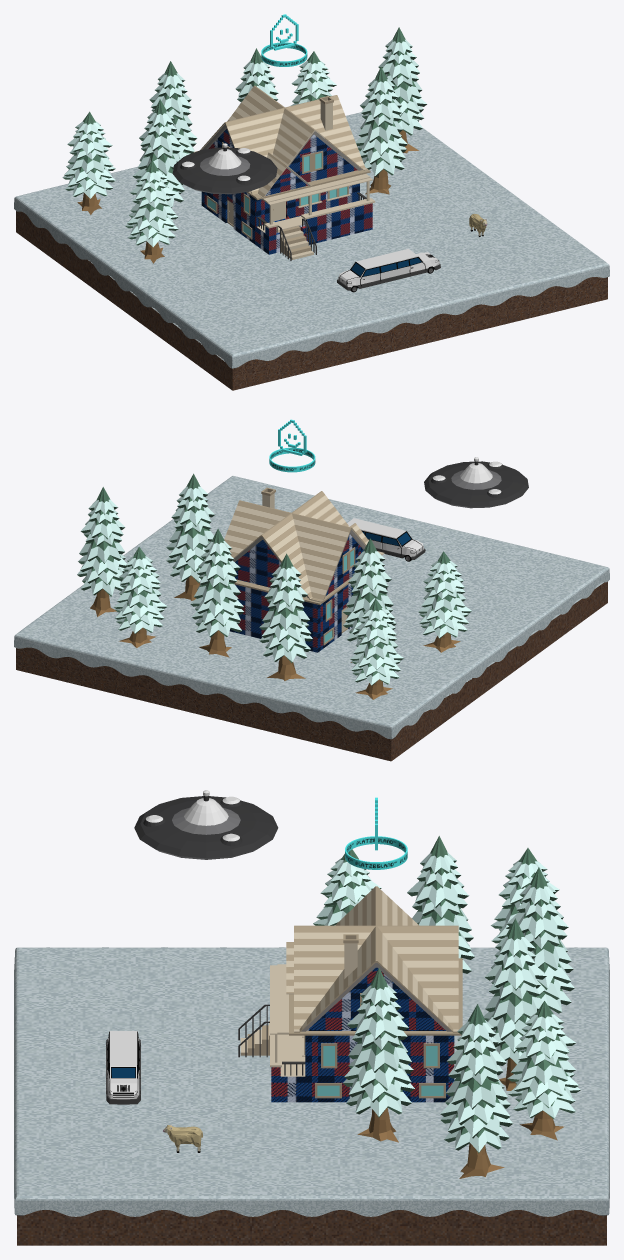
3 renders of one model, top to bottom at view 1: azimuth 30°, elevation 25°; view 2: azimuth 150°, elevation 25°; view 3: azimuth 270°, elevation 25°, orthographic. The views are drawn at different scales.
Visible parts, largest first — view 1: Cube.003, Cube.171, OBJRANDOM_UFO, VEHICLES_LIMOUSINE, TYPE_PREMIUM; view 2: Cube.003, Cube.171, OBJRANDOM_UFO, VEHICLES_LIMOUSINE, TYPE_PREMIUM; view 3: Cube.003, Cube.171, OBJRANDOM_UFO, VEHICLES_LIMOUSINE, TYPE_PREMIUM, ANIMAL_OVEJA.
Part boxes in pixels (x1,y1,x2,y2): Cube.003: (14, 27, 609, 390); Cube.171: (193, 85, 375, 260); OBJRANDOM_UFO: (172, 143, 277, 194); VEHICLES_LIMOUSINE: (337, 248, 440, 292); TYPE_PREMIUM: (261, 14, 307, 66); Cube.003: (14, 473, 609, 761); Cube.171: (224, 487, 387, 652); OBJRANDOM_UFO: (424, 457, 528, 508); VEHICLES_LIMOUSINE: (347, 518, 425, 561); TYPE_PREMIUM: (269, 419, 315, 472); Cube.003: (14, 836, 609, 1245); Cube.171: (238, 886, 462, 1102); OBJRANDOM_UFO: (134, 790, 278, 859); VEHICLES_LIMOUSINE: (106, 1031, 140, 1104); TYPE_PREMIUM: (345, 797, 407, 869); ANIMAL_OVEJA: (163, 1124, 202, 1152).
Size of the model in its own units: 4040 by 2619 by 4040.
33 materials, 5 textured.
